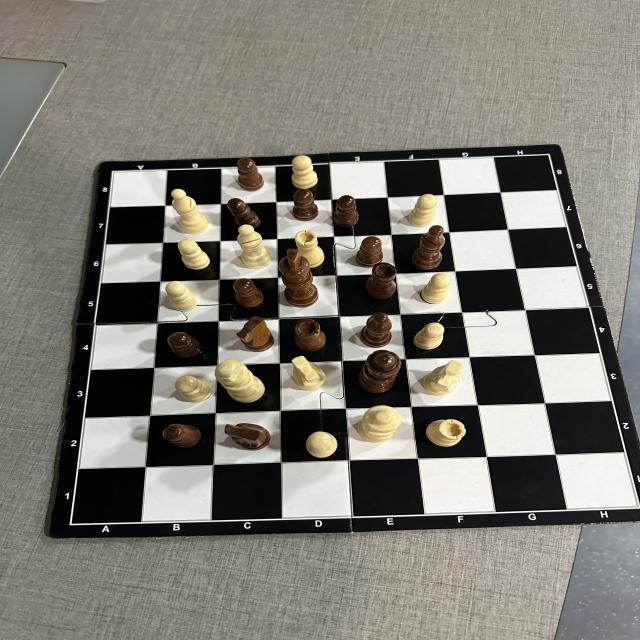Black-Bishop: (410, 225, 446, 270), (360, 312, 392, 348)
Black-King: (278, 248, 319, 308)
Black-Knight: (236, 316, 275, 352), (224, 423, 270, 451)
Black-Pawn: (227, 198, 261, 228), (236, 157, 265, 192), (162, 424, 202, 448), (233, 278, 264, 308), (167, 332, 202, 358), (333, 195, 360, 228), (292, 189, 319, 221), (356, 236, 383, 268)
Black-Queen: (358, 349, 402, 394)
Black-Rook: (365, 262, 397, 300), (294, 319, 327, 352)
White-Bishop: (171, 188, 209, 234), (236, 224, 272, 270)
White-King: (214, 359, 266, 403)
White-Knight: (423, 360, 463, 396), (291, 356, 327, 391)
White-Pawn: (177, 239, 211, 270), (175, 375, 212, 403), (408, 194, 438, 228), (165, 281, 198, 311), (291, 155, 319, 190), (420, 273, 450, 304), (413, 322, 445, 350), (305, 432, 338, 458)
White-Queen: (357, 405, 403, 443)
White-Rook: (294, 230, 326, 268), (426, 419, 466, 447)
